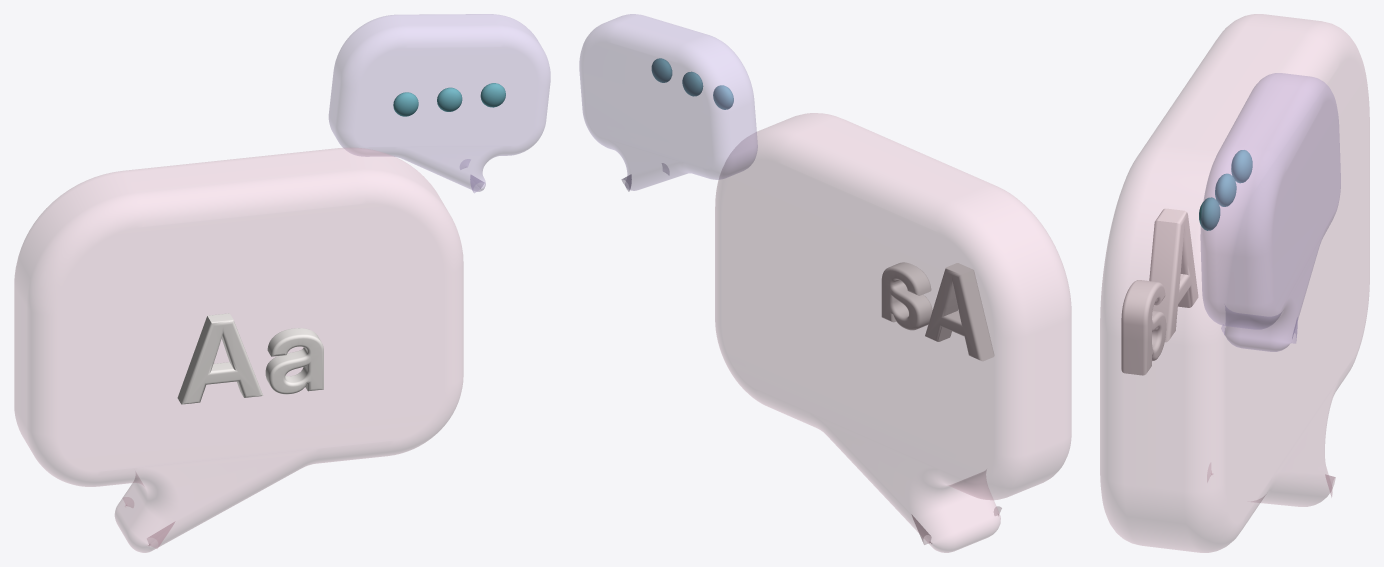
The model's file is englishprep.glb.
The picture shows the model from 3 angles, left to right: view 1: azimuth 30°, elevation 25°; view 2: azimuth 150°, elevation 25°; view 3: azimuth 270°, elevation 25°; orthographic projection. The views are drawn at different scales.
Visible parts, largest first — view 1: bubble, reply, A, a, dots; view 2: bubble, reply, A, a, dots; view 3: bubble, reply, A, a, dots.
Part boxes in pixels (x1,y1,x2,y2): bubble: [14, 148, 463, 552]; reply: [329, 14, 550, 192]; A: [177, 313, 263, 404]; a: [265, 328, 323, 394]; dots: [393, 83, 505, 116]; bubble: [715, 113, 1071, 552]; reply: [579, 14, 757, 191]; A: [925, 263, 994, 361]; a: [881, 262, 932, 330]; dots: [651, 58, 733, 109]; bubble: [1100, 14, 1369, 552]; reply: [1200, 73, 1340, 351]; A: [1149, 208, 1198, 342]; a: [1121, 280, 1166, 375]; dots: [1199, 150, 1252, 230].
Bounding box in the file's own units: 2.15 × 1.84 × 0.7651.
